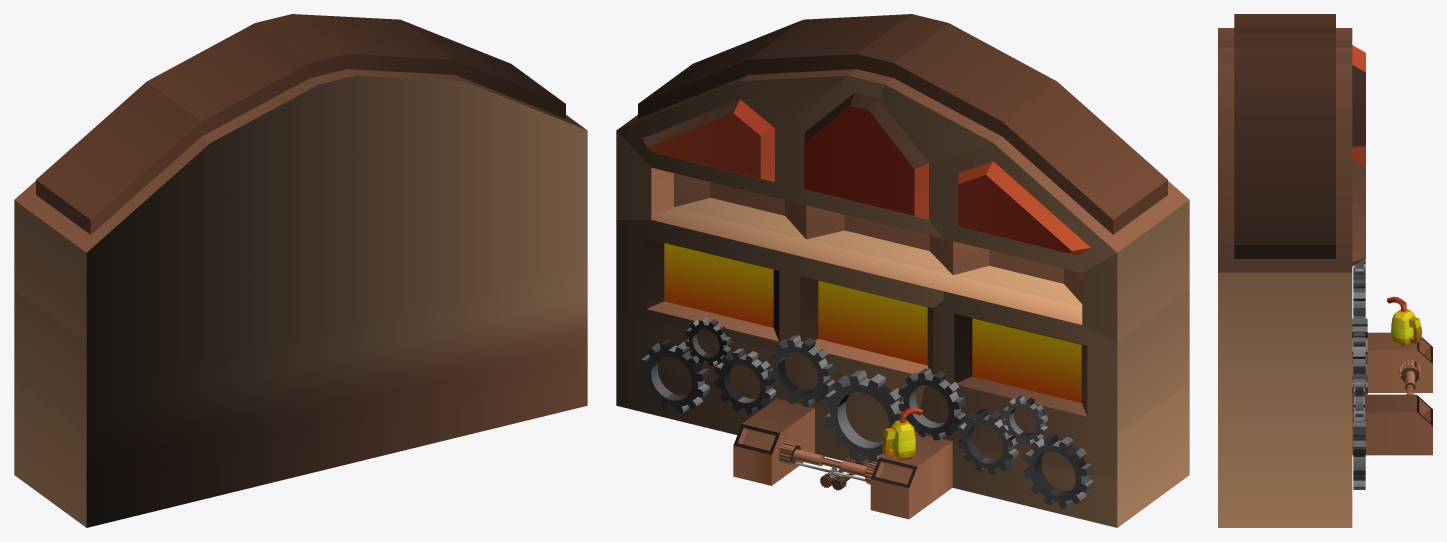
Rendered from Flowminigame.fbx.
The picture shows the model from 3 angles, left to right: view 1: azimuth 30°, elevation 25°; view 2: azimuth 150°, elevation 25°; view 3: azimuth 270°, elevation 25°; orthographic projection. The views are drawn at different scales.
Visible parts, largest first — view 1: Cube.002; view 2: Cube.002, Cube; view 3: Cube.002, Cube.
Part boxes in pixels (<box>): Cube.002: <box>14,14,587,527</box>; Cube.002: <box>616,14,1189,527</box>; Cube: <box>882,408,922,459</box>; Cube.002: <box>1218,14,1432,527</box>; Cube: <box>1386,296,1421,346</box>.
Size of the model in its own units: 10.55 by 8.08 by 4.22.
